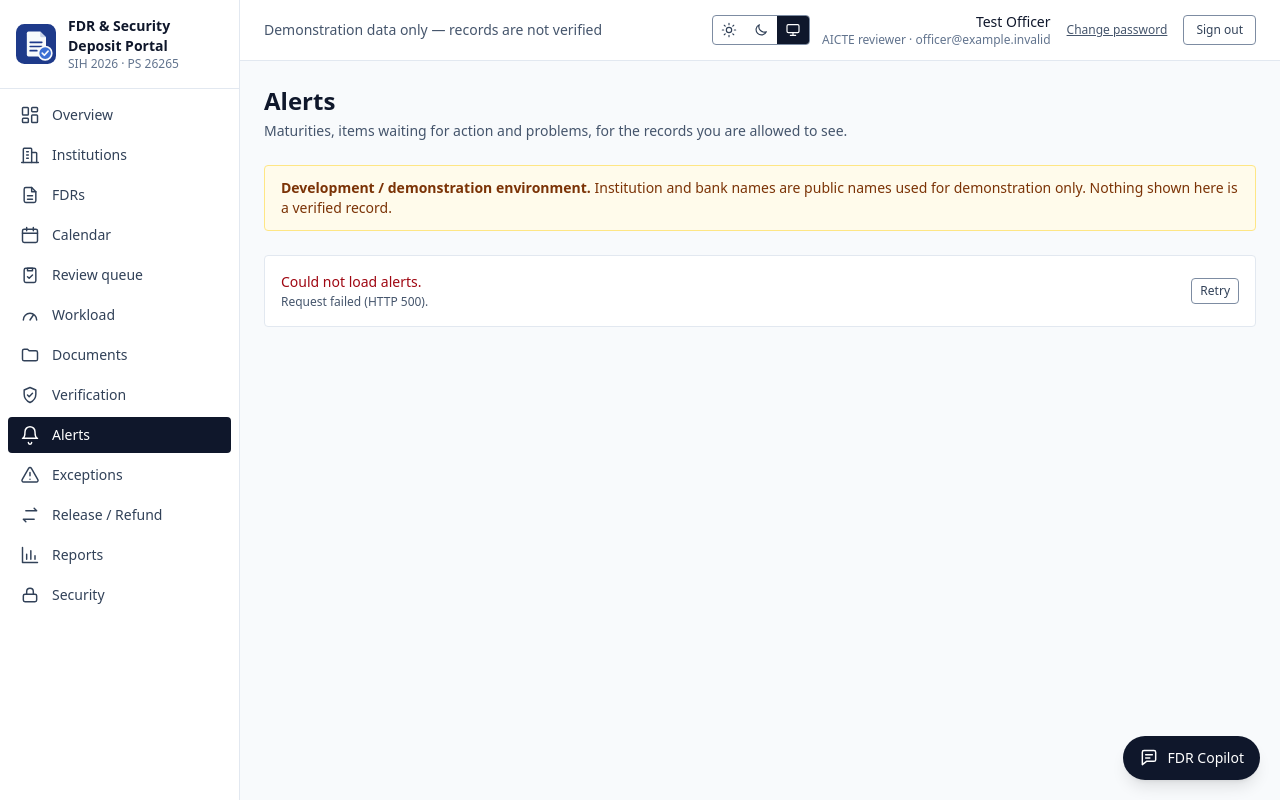
Scenario: alerts › recovers from a failed load with a retry, never showing an error as 'no alerts'
Check: the message shows "Could not load alerts", box [264, 255, 1256, 327]
Step 1. Click the button "Retry" → (1215, 291), box [1191, 278, 1239, 304]
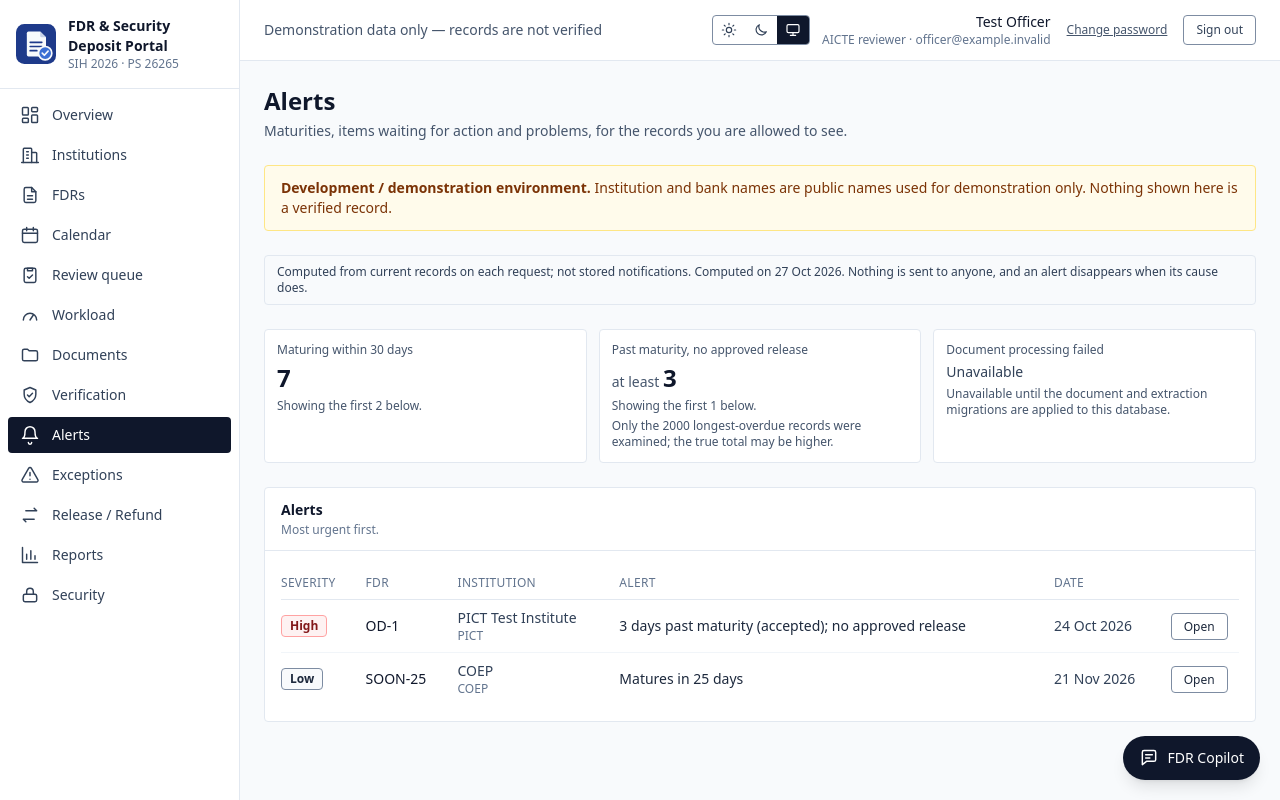
Check: the column heading "OD-1" is shown, box [366, 600, 458, 652]
